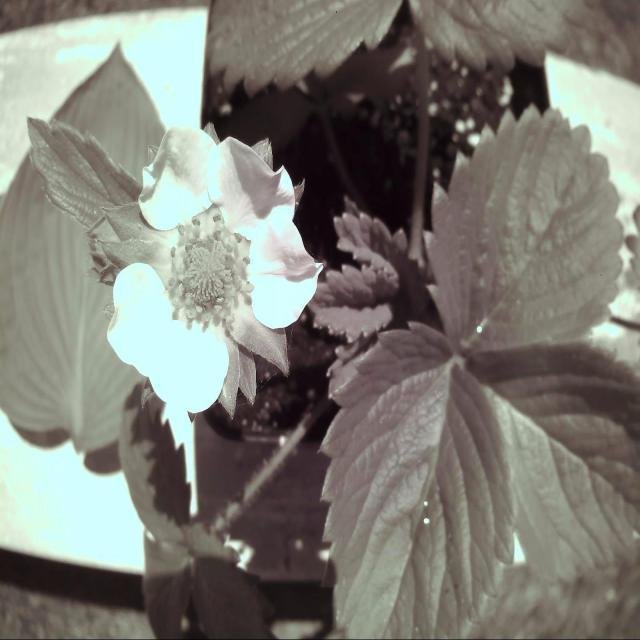flower: (104, 119, 326, 415)
